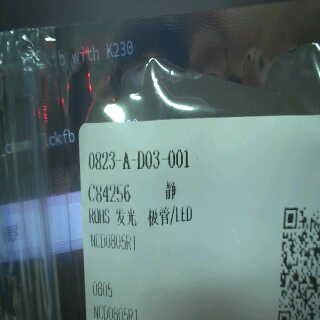LED: (113, 202, 200, 228)
